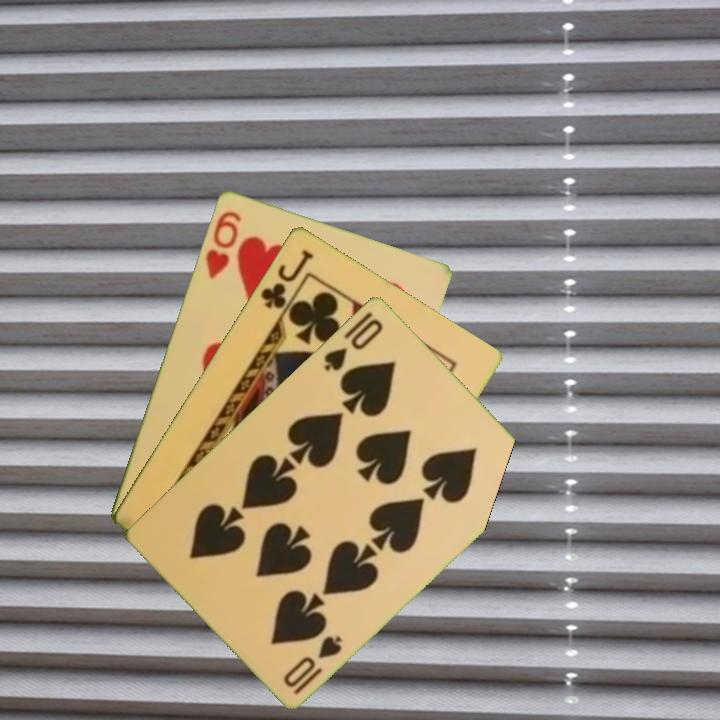10s: (320, 307, 386, 374), (280, 631, 345, 698)
6h: (202, 206, 244, 281)
Jc: (257, 245, 317, 312)
